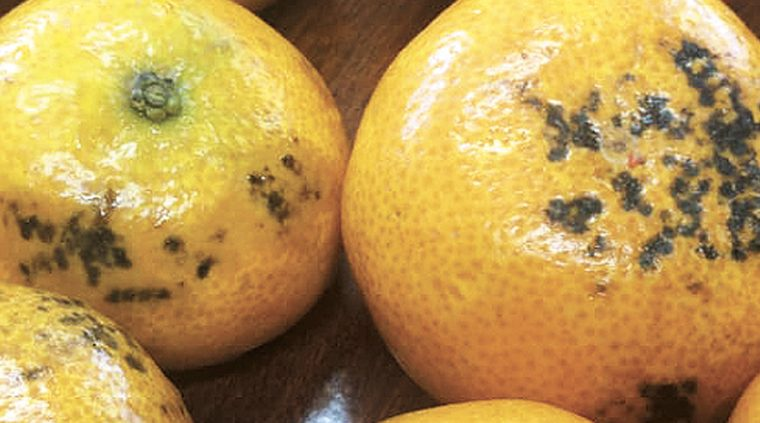Cladosporium: (529, 90, 757, 256), (23, 215, 133, 282), (38, 300, 136, 363), (247, 158, 316, 224), (630, 377, 700, 423)
